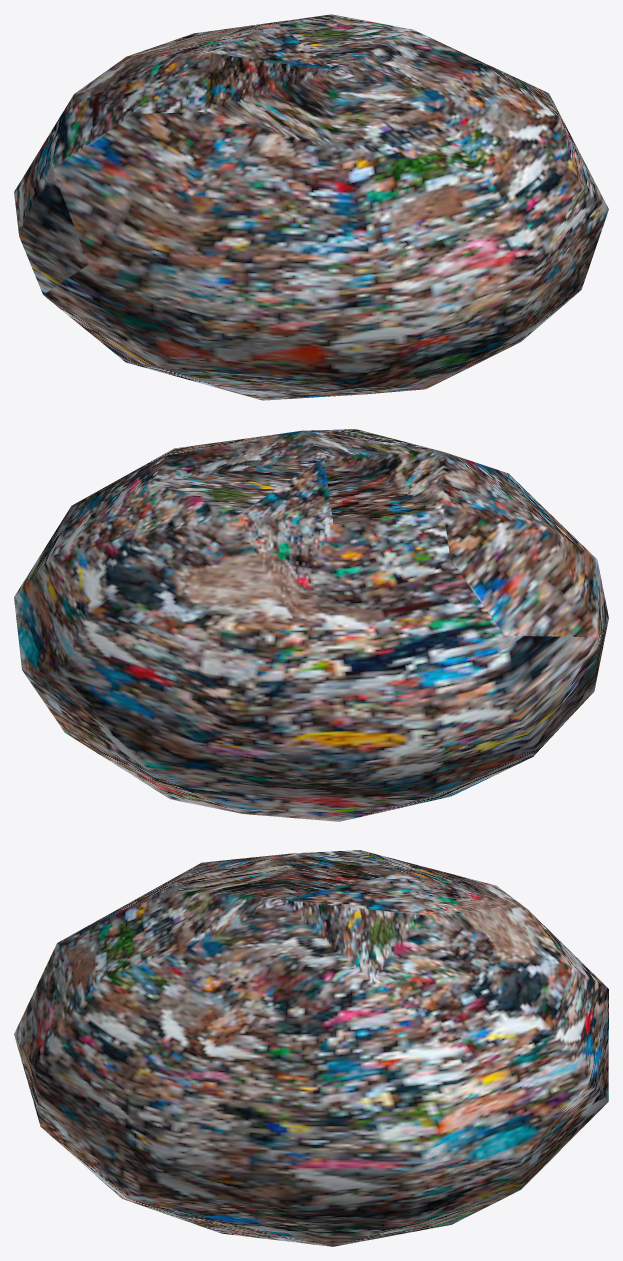
The model's file is Trash Rest_FBX.fbx.
3 renders of one model, top to bottom at view 1: azimuth 30°, elevation 25°; view 2: azimuth 150°, elevation 25°; view 3: azimuth 270°, elevation 25°, orthographic. The views are drawn at different scales.
Parts seen in each view (by area): view 1: Sphere; view 2: Sphere; view 3: Sphere.
Part boxes in pixels (box(x1,y1,x2,y2)): Sphere: box(14, 14, 608, 400); Sphere: box(14, 429, 608, 821); Sphere: box(14, 850, 608, 1246).
Bounding box in the file's own units: 78.17 × 44.12 × 78.99.
